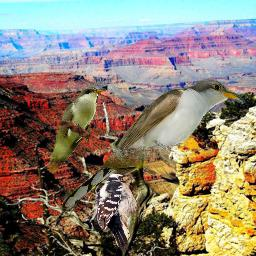Cuckoo: (58, 77, 246, 213), (47, 87, 106, 173)
Woodpecker: (94, 171, 148, 252)
